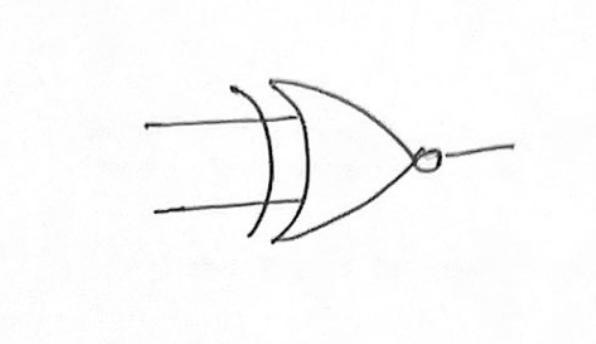XNOR: (209, 65, 471, 274)
